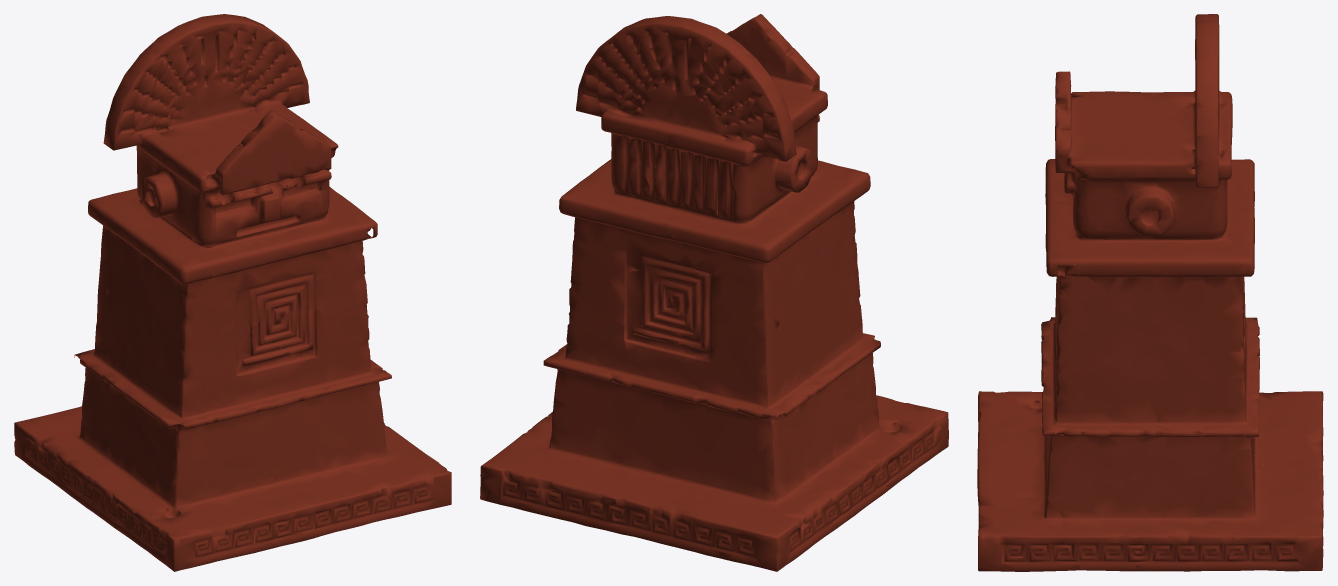
File: king.glb
The picture shows the model from 3 angles, left to right: view 1: azimuth 30°, elevation 25°; view 2: azimuth 150°, elevation 25°; view 3: azimuth 270°, elevation 25°; orthographic projection. The views are drawn at different scales.
Visible parts, largest first — view 1: chunk_03, chunk_04, chunk_06, chunk_12, chunk_11, chunk_05, chunk_16, chunk_10, chunk_02, chunk_01, chunk_09, chunk_15 (+1 smaller); view 2: chunk_12, chunk_02, chunk_03, chunk_01, chunk_07, chunk_14, chunk_08, chunk_04, chunk_15, chunk_11, chunk_00, chunk_06; view 3: chunk_03, chunk_08, chunk_00, chunk_09, chunk_07, chunk_05, chunk_13, chunk_10, chunk_14, chunk_02, chunk_11, chunk_06 (+3 smaller).
Part boxes in pixels (<box>): chunk_03: <box>155,14,338,191</box>; chunk_04: <box>113,244,250,457</box>; chunk_06: <box>188,175,377,328</box>; chunk_12: <box>88,40,206,261</box>; chunk_11: <box>116,435,279,571</box>; chunk_05: <box>276,435,451,546</box>; chunk_16: <box>182,332,327,474</box>; chunk_10: <box>250,243,368,369</box>; chunk_02: <box>14,368,112,501</box>; chunk_01: <box>74,230,142,398</box>; chunk_09: <box>322,326,391,438</box>; chunk_15: <box>78,395,146,528</box>; chunk_12: <box>655,50,835,275</box>; chunk_02: <box>615,412,850,571</box>; chunk_03: <box>576,14,822,168</box>; chunk_01: <box>678,242,821,420</box>; chunk_07: <box>543,310,709,497</box>; chunk_14: <box>559,183,698,341</box>; chunk_08: <box>480,382,624,532</box>; chunk_04: <box>807,167,880,401</box>; chunk_15: <box>646,399,887,521</box>; chunk_11: <box>842,377,948,491</box>; chunk_00: <box>560,142,656,198</box>; chunk_06: <box>809,79,845,182</box>; chunk_03: <box>1055,14,1231,223</box>; chunk_08: <box>1135,449,1323,571</box>; chunk_00: <box>1074,186,1252,349</box>; chunk_09: <box>1042,371,1170,501</box>; chunk_07: <box>1151,327,1321,481</box>; chunk_05: <box>977,445,1080,571</box>; chunk_13: <box>1048,437,1174,571</box>; chunk_10: <box>1055,279,1173,378</box>; chunk_14: <box>1177,208,1254,373</box>; chunk_02: <box>1254,391,1323,470</box>; chunk_11: <box>978,391,1046,459</box>; chunk_06: <box>1045,92,1103,282</box>.
Size of the model in its own units: 0.7628 by 1.17 by 0.7632.
